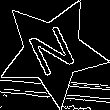N_SE: (23, 20, 82, 84)
